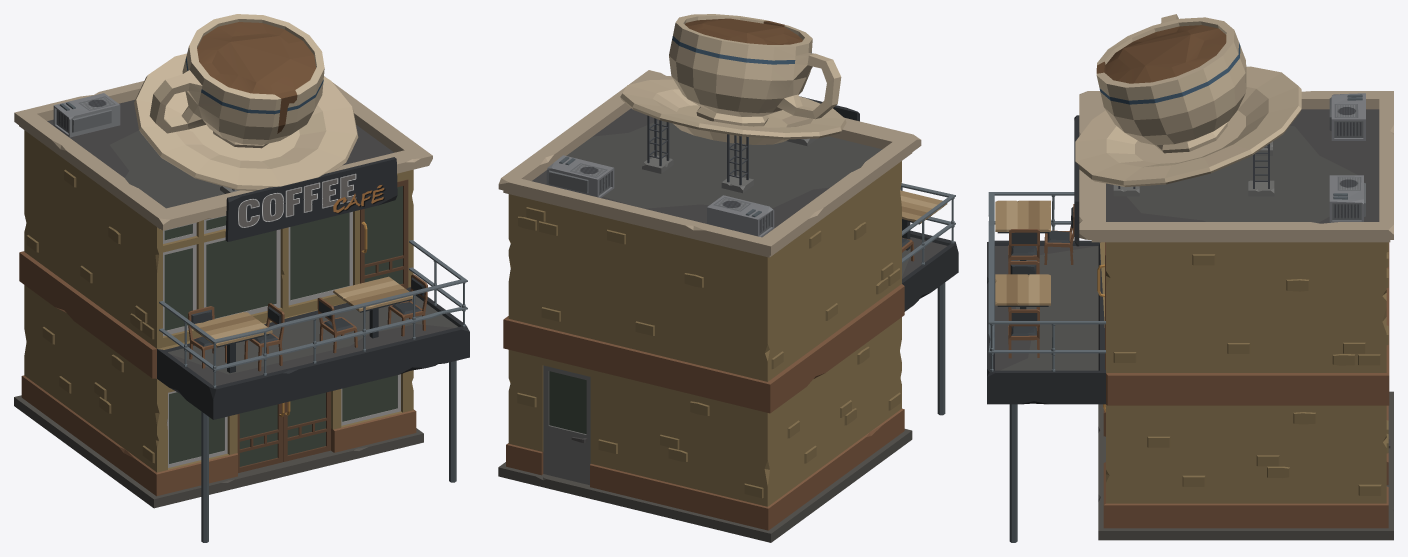
File: coffee.glb
3 renders of one model, left to right at view 1: azimuth 30°, elevation 25°; view 2: azimuth 150°, elevation 25°; view 3: azimuth 270°, elevation 25°, orthographic. The views are drawn at different scales.
Visible parts, largest first — view 1: SM_Bld_Cafe_01_1, SM_Bld_Cafe_Cup_Sign_01_8, SM_Bld_Cafe_Sign_01_3, SM_Bld_Cafe_Tables_01_2, SM_Bld_Cafe_Door_03_5, SM_Bld_Cafe_Door_02_6, SM_Bld_Cafe_Door_01_7; view 2: SM_Bld_Cafe_01_1, SM_Bld_Cafe_Cup_Sign_01_8, SM_Bld_Cafe_Door_04_4, SM_Bld_Cafe_Tables_01_2; view 3: SM_Bld_Cafe_01_1, SM_Bld_Cafe_Cup_Sign_01_8, SM_Bld_Cafe_Tables_01_2, SM_Bld_Cafe_Sign_01_3.
Boxes of the visible parts, x1,y1,x2,y2 form: SM_Bld_Cafe_01_1: (14, 76, 469, 542); SM_Bld_Cafe_Cup_Sign_01_8: (134, 14, 358, 193); SM_Bld_Cafe_Sign_01_3: (225, 157, 397, 241); SM_Bld_Cafe_Tables_01_2: (188, 274, 427, 373); SM_Bld_Cafe_Door_03_5: (360, 179, 408, 288); SM_Bld_Cafe_Door_02_6: (283, 391, 330, 461); SM_Bld_Cafe_Door_01_7: (237, 402, 284, 472); SM_Bld_Cafe_01_1: (498, 70, 958, 542); SM_Bld_Cafe_Cup_Sign_01_8: (620, 14, 846, 193); SM_Bld_Cafe_Door_04_4: (543, 365, 590, 485); SM_Bld_Cafe_Tables_01_2: (900, 190, 947, 261); SM_Bld_Cafe_01_1: (987, 91, 1393, 542); SM_Bld_Cafe_Cup_Sign_01_8: (1075, 14, 1301, 196); SM_Bld_Cafe_Tables_01_2: (995, 200, 1074, 358); SM_Bld_Cafe_Sign_01_3: (1074, 115, 1079, 246).
Size of the model in its own units: 5.8 by 8.58 by 7.16.
8 materials, 8 textured.
